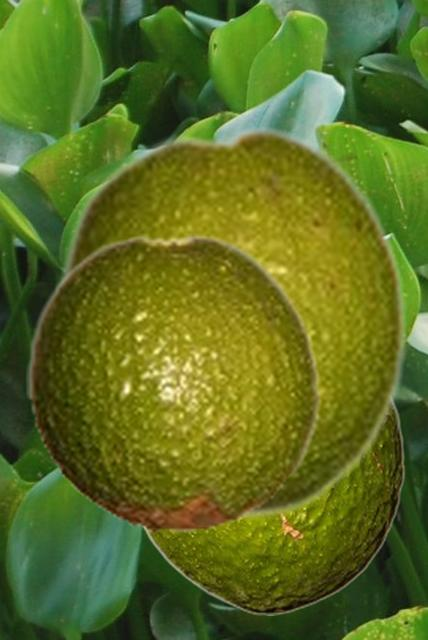avocado: (56, 123, 409, 521), (26, 233, 323, 533), (139, 401, 404, 614)
